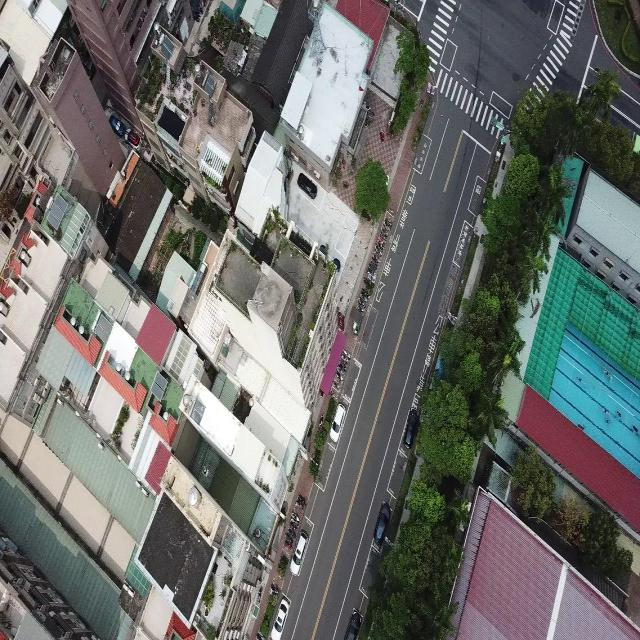car: (372, 501, 391, 555), (289, 528, 309, 576), (270, 594, 291, 639), (329, 403, 346, 443), (343, 608, 362, 639), (404, 407, 418, 448), (297, 172, 318, 199)
